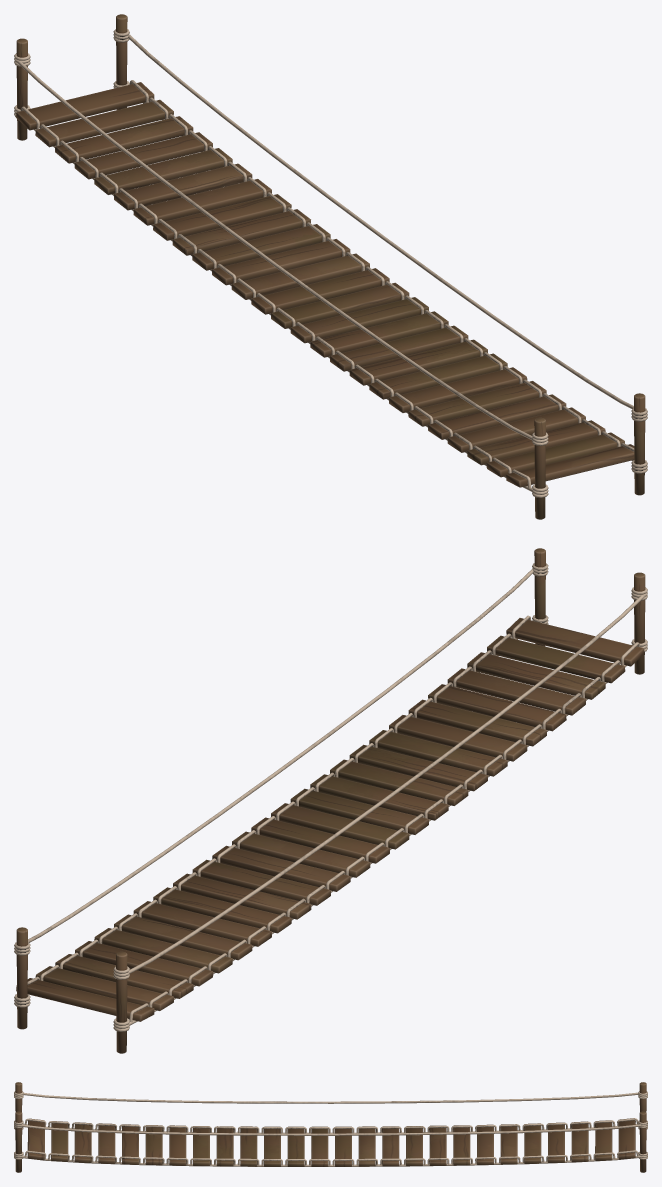
File: Bridge.fbx
3 renders of one model, top to bottom at view 1: azimuth 30°, elevation 25°; view 2: azimuth 150°, elevation 25°; view 3: azimuth 270°, elevation 25°, orthographic. The views are drawn at different scales.
Parts seen in each view (by area): view 1: Cube, Torus.002, Cylinder.003, BézierCurve.006, Cylinder, BézierCurve.002; view 2: Cube, Torus.002, Cylinder.003, BézierCurve.006, BézierCurve.002, Cylinder; view 3: Cube, Cylinder.003, Cylinder, BézierCurve.002, BézierCurve.006, Torus.002, BézierCurve.001, BézierCurve.005.
Part boxes in pixels (x1,y1,x2,y2): Cube: (16, 82, 634, 487); Torus.002: (14, 14, 647, 519); Cylinder.003: (20, 106, 531, 488); BézierCurve.006: (17, 60, 532, 440); Cylinder: (129, 80, 634, 451); BézierCurve.002: (128, 34, 633, 409); Cube: (16, 618, 644, 1021); Torus.002: (14, 548, 647, 1053); Cylinder.003: (129, 642, 639, 1022); BézierCurve.006: (129, 595, 645, 973); BézierCurve.002: (28, 569, 533, 942); Cylinder: (27, 615, 530, 984); Cube: (27, 1118, 635, 1166); Cylinder.003: (24, 1118, 638, 1133); Cylinder: (24, 1150, 638, 1165); BézierCurve.002: (20, 1124, 641, 1135); BézierCurve.006: (23, 1092, 638, 1103); Torus.002: (14, 1082, 647, 1172); BézierCurve.001: (20, 1155, 641, 1166); BézierCurve.005: (23, 1124, 636, 1133).
Bounding box in the file's own units: 227 × 170 × 1655.
Materials: 1 (1 with a texture image).
